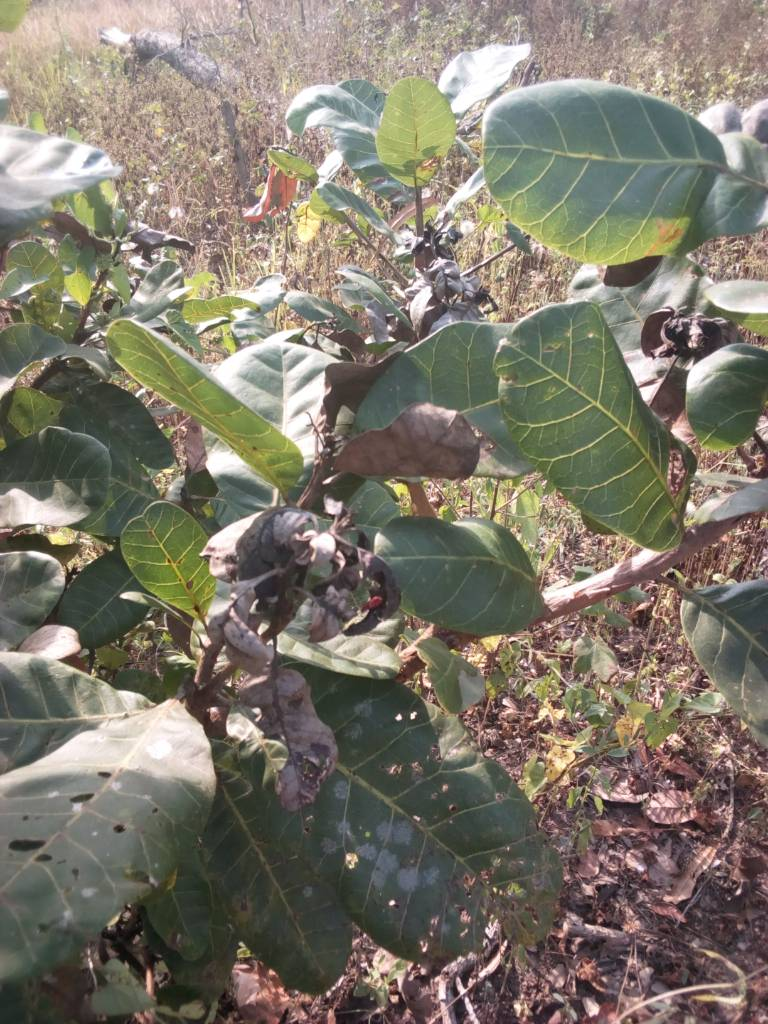Anoplocnemis curvipes: (333, 692, 560, 958), (1, 697, 197, 963)
